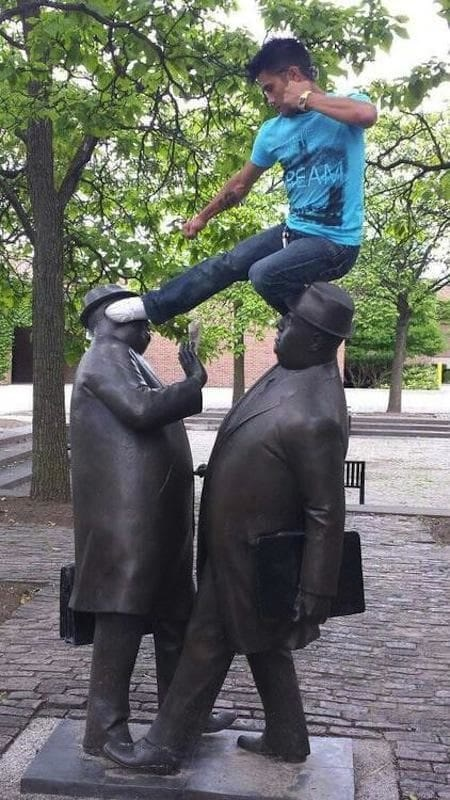person: (100, 32, 385, 325)
person-like: (99, 280, 363, 770), (60, 280, 213, 770)
